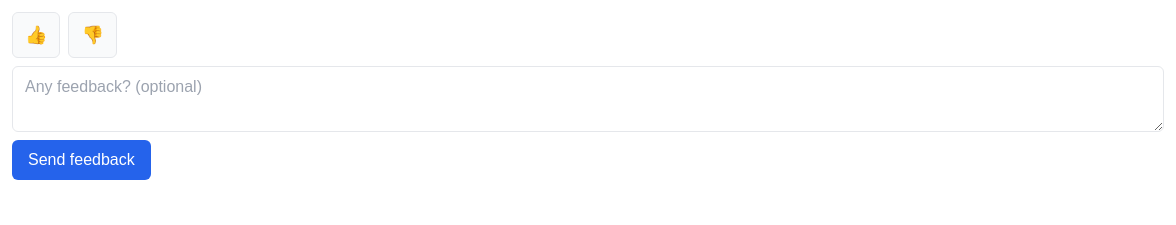
it: FeedbackWidget › shows an error message when the endpoint answers with an error status
Click the button "Send feedback": (81, 160) [12,140,151,180]
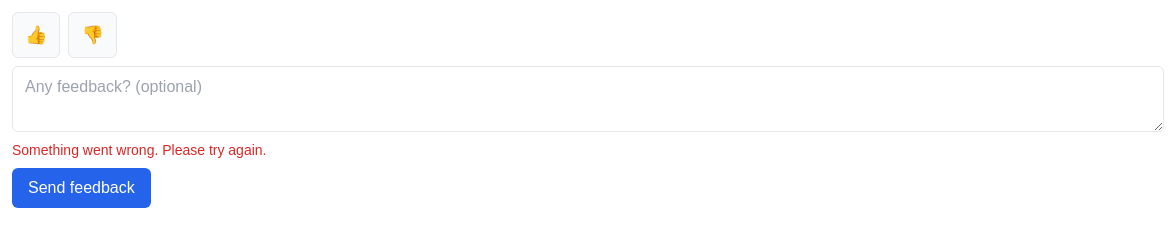
Check: the message "Something went wrong. Please try again." is shown, box [12,142,266,158]
